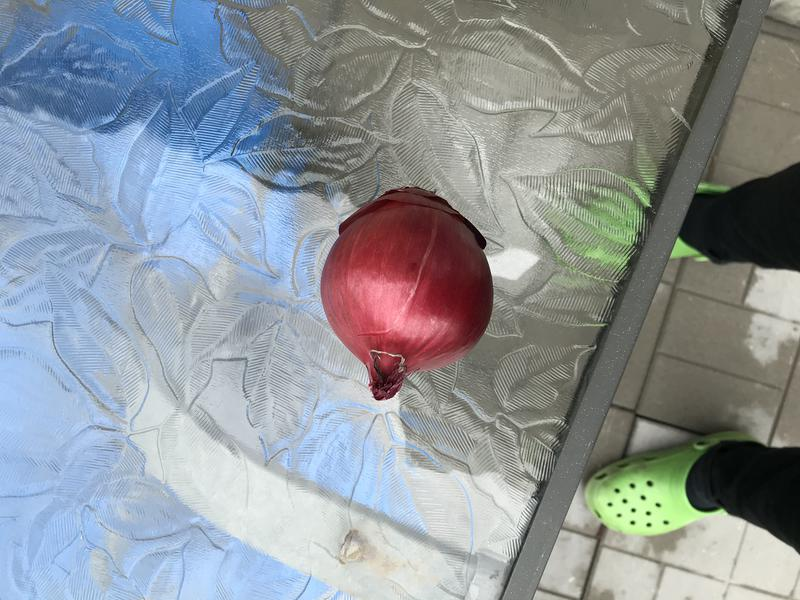purple_onion: (308, 177, 509, 411)
